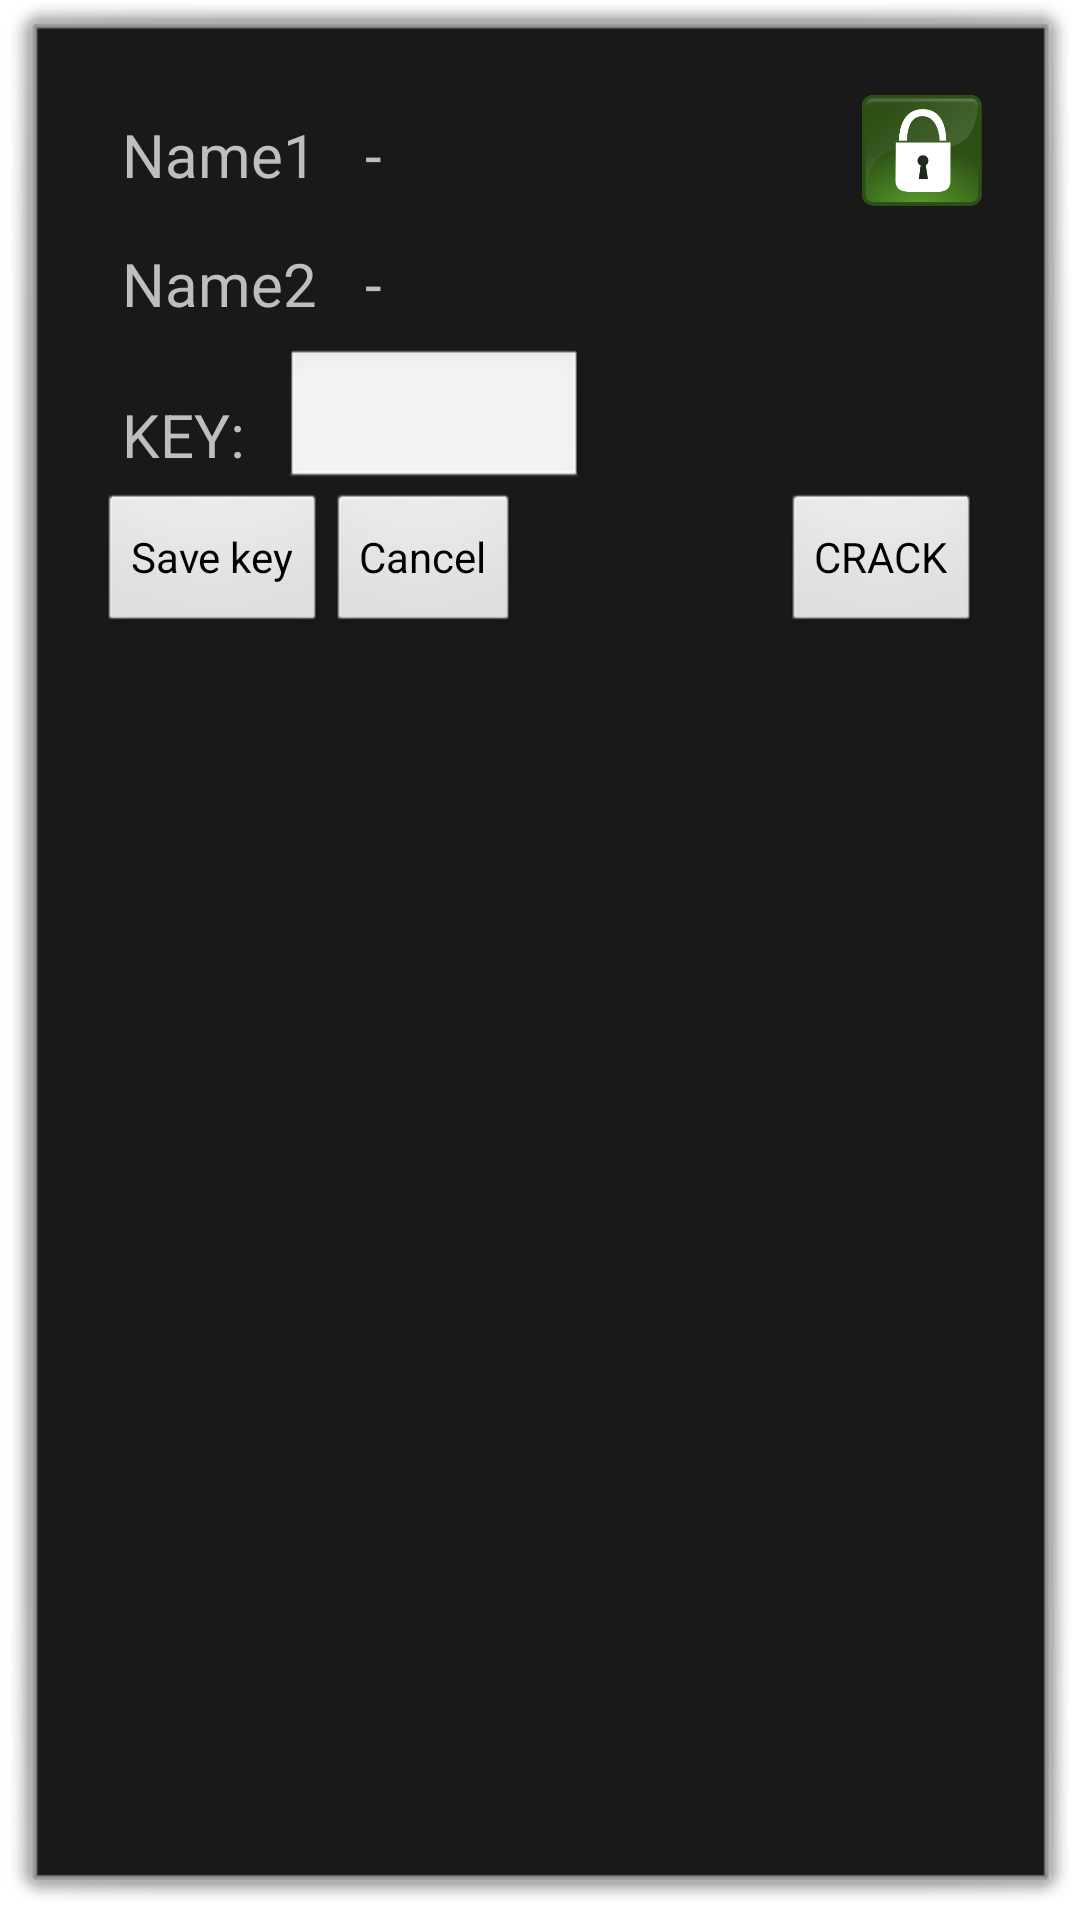

Point at icon controls on the screen. Image size 1080x1920, points as [x,y].
closed: [903,137]
